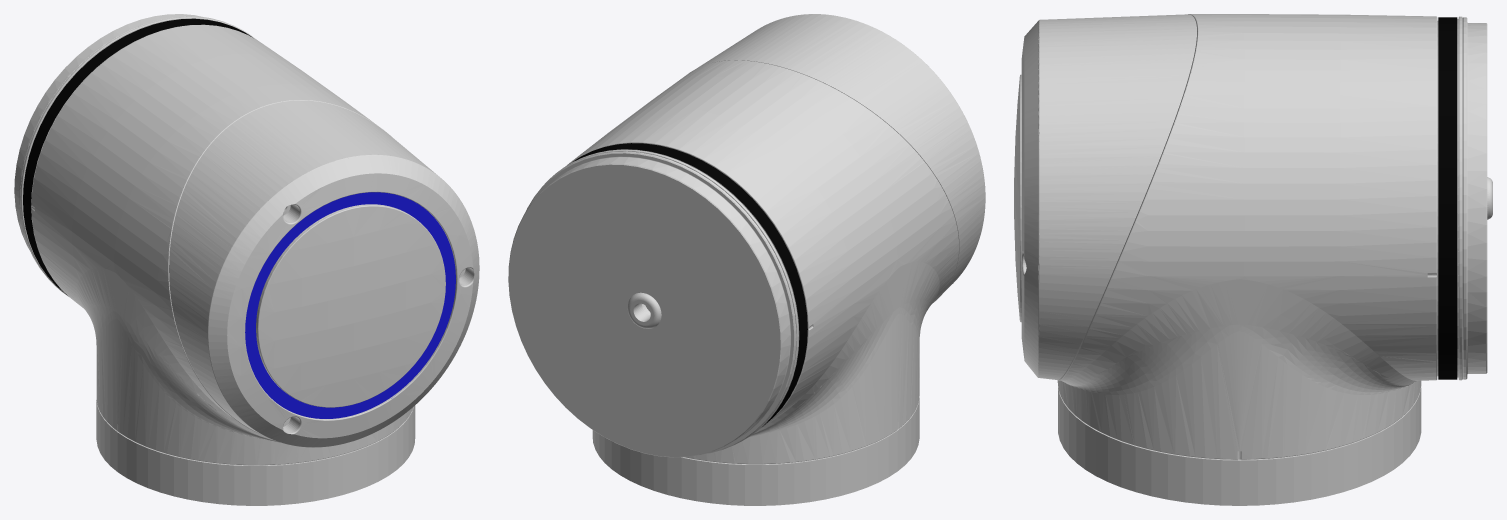
The model's file is symphony40_4_w.dae.
3 renders of one model, left to right at view 1: azimuth 30°, elevation 25°; view 2: azimuth 150°, elevation 25°; view 3: azimuth 270°, elevation 25°, orthographic. The views are drawn at different scales.
Visible parts, largest first — view 1: link4; view 2: link4; view 3: link4.
Part boxes in pixels (box(x1,y1,x2,y2)): link4: box(14, 14, 479, 505); link4: box(508, 14, 985, 505); link4: box(1014, 14, 1492, 505).
Bounding box in the file's own units: 0.1177 × 0.1528 × 0.14.
